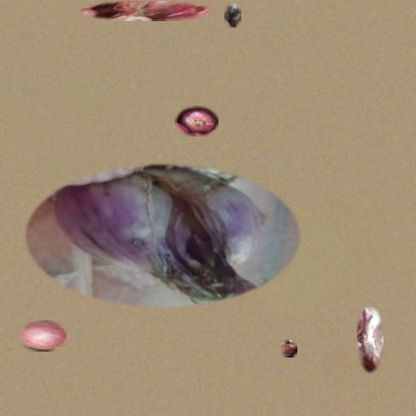damaged: (17, 160, 309, 312)
healthy: (18, 320, 67, 352), (175, 106, 219, 137)
rotten: (76, 1, 217, 21), (357, 304, 383, 375), (224, 3, 241, 28)
sprouted: (281, 340, 297, 358)
